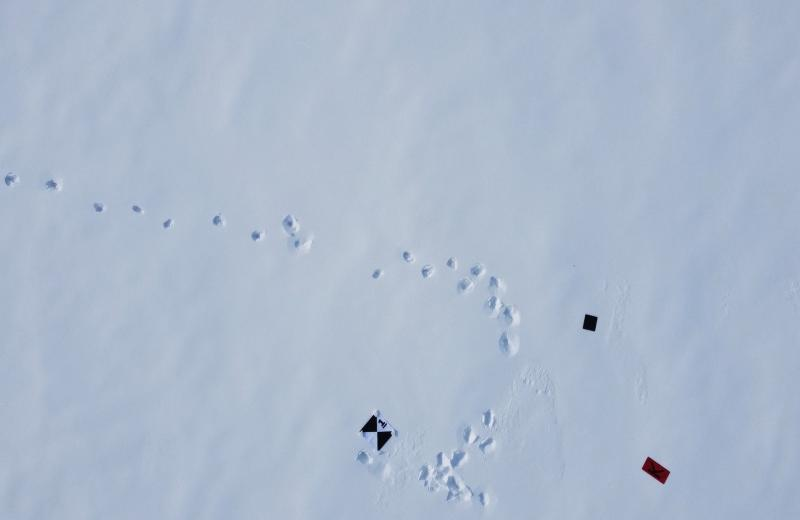Rectangle: (643, 453, 677, 488)
Square: (579, 313, 601, 339)
